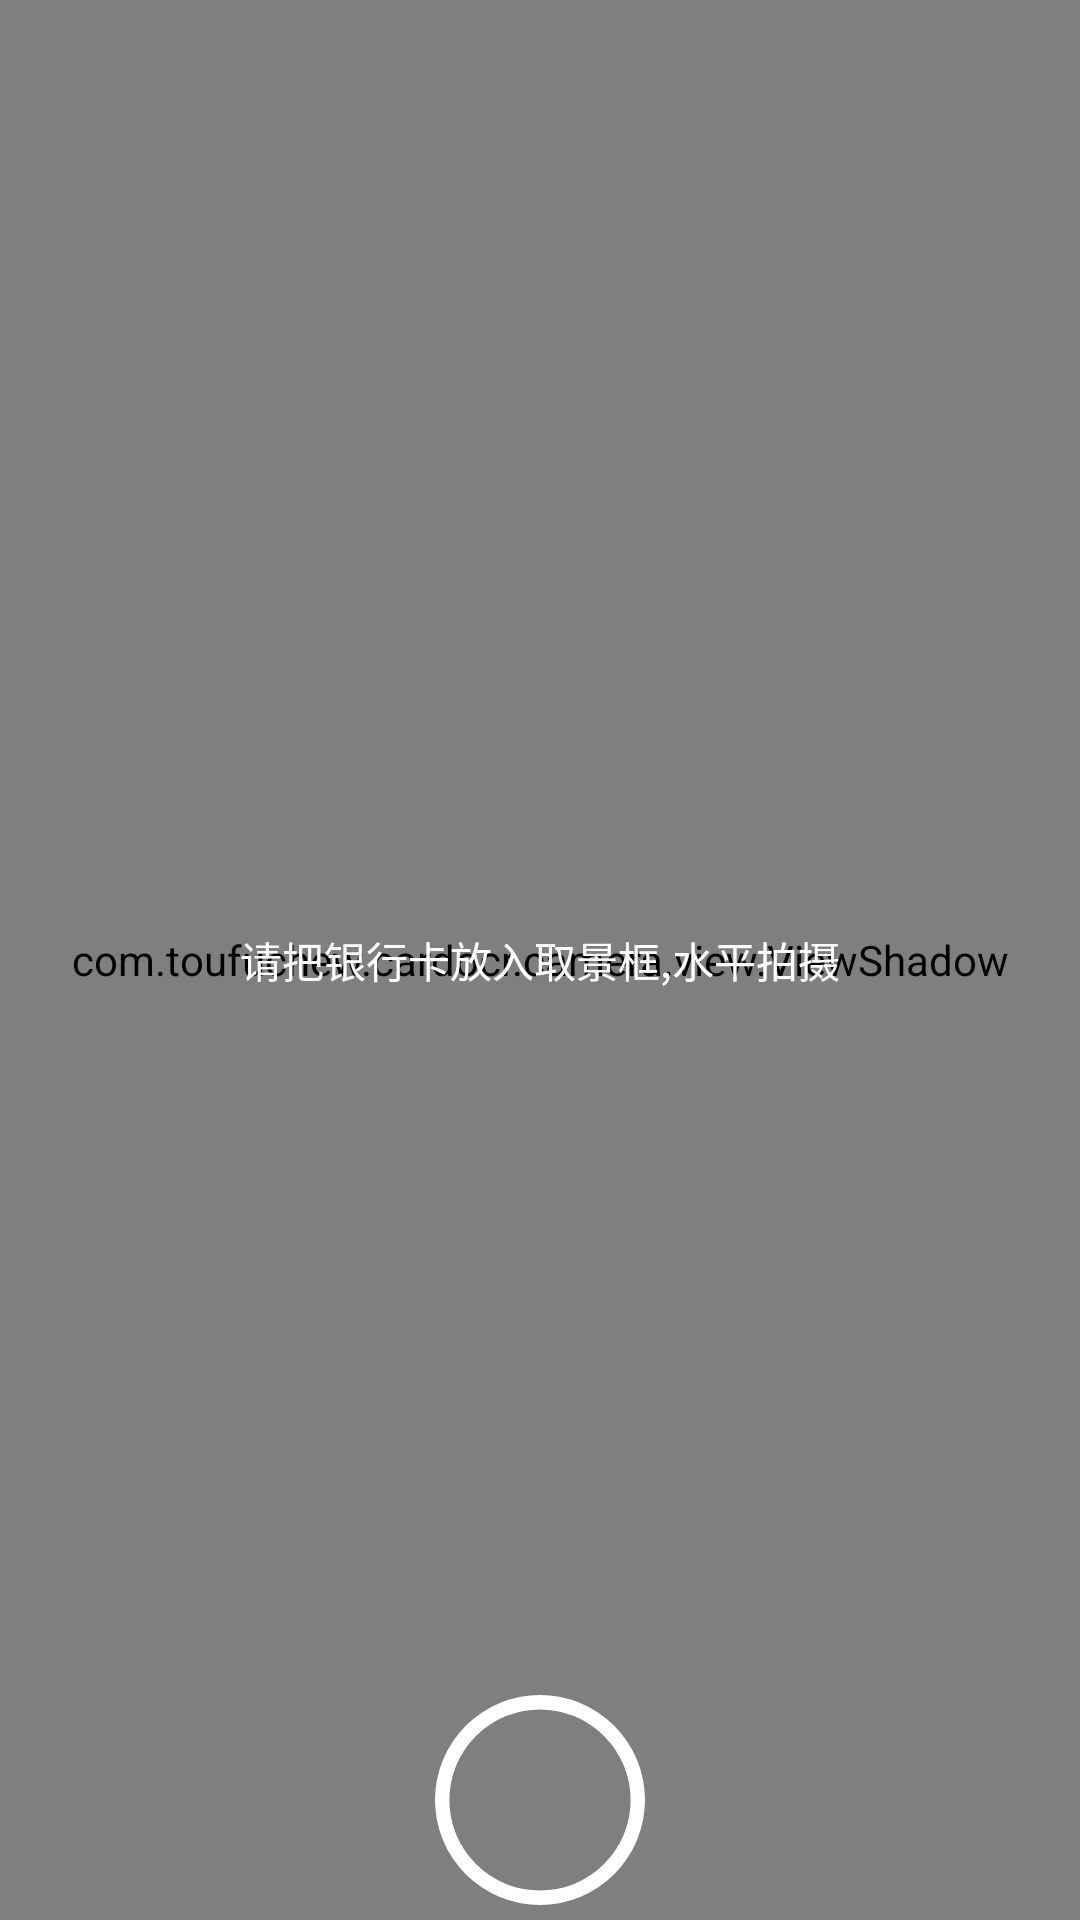

Where to tap for icons on this 1080*1920 app screen, as (x,y):
shooting: (540,1800)
